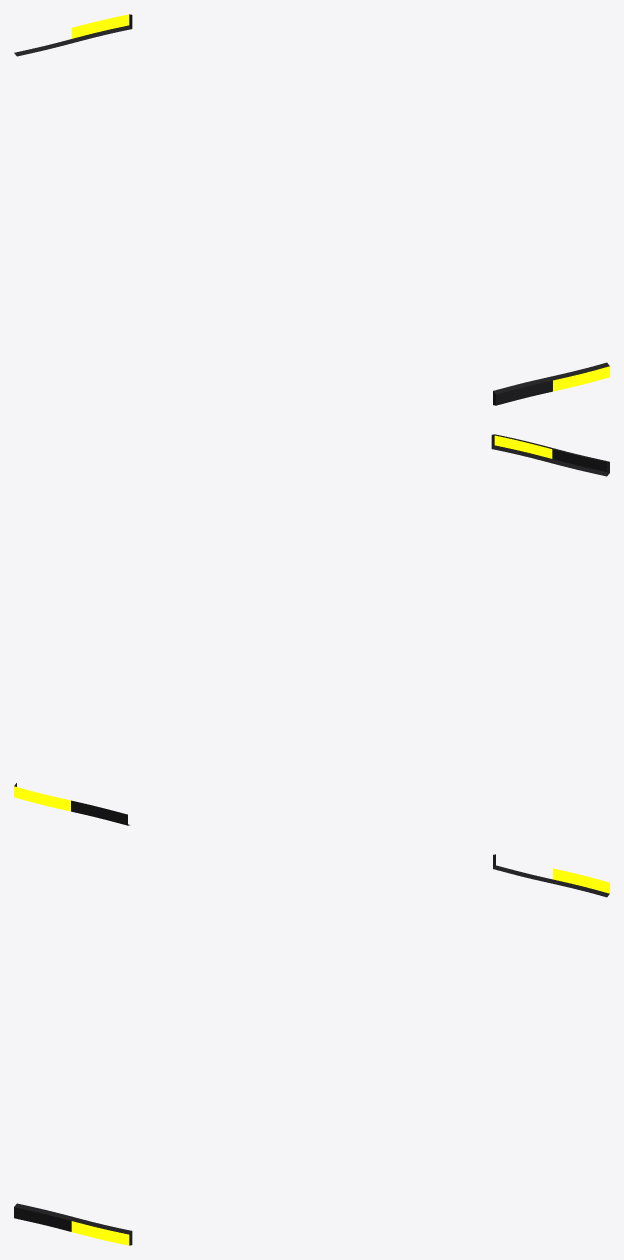
File: SM_Winglets.fbx
3 renders of one model, top to bottom at view 1: azimuth 30°, elevation 25°; view 2: azimuth 150°, elevation 25°; view 3: azimuth 330°, elevation 25°, orthographic.
Visible parts, largest first — view 1: Export_Winglets; view 2: Export_Winglets; view 3: Export_Winglets.
Boxes of the visible parts, x1,y1,x2,y2 form: Export_Winglets: (14,14,609,405); Export_Winglets: (14,434,609,825); Export_Winglets: (14,854,609,1245).
Bounding box in the file's own units: 1.97 × 0.27 × 0.032.
